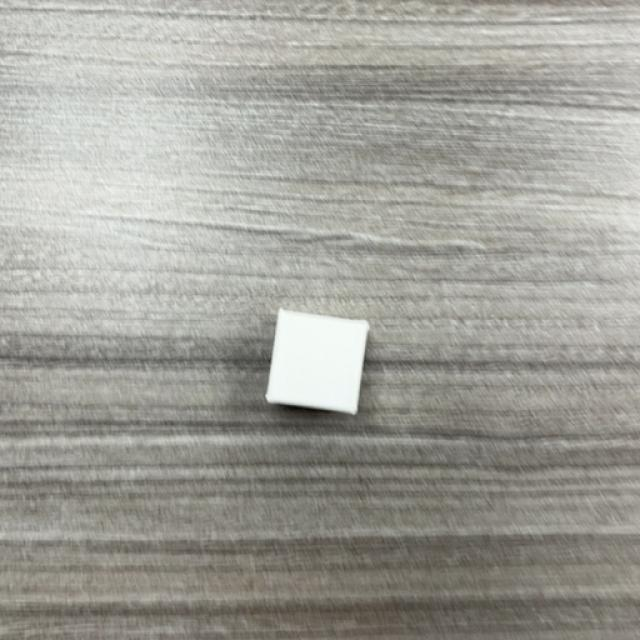Blanco: (265, 310, 369, 416)
